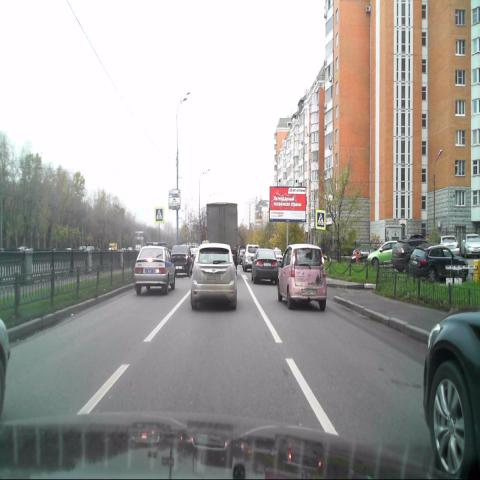5_19_1: (316, 209, 326, 230), (154, 206, 164, 222)
